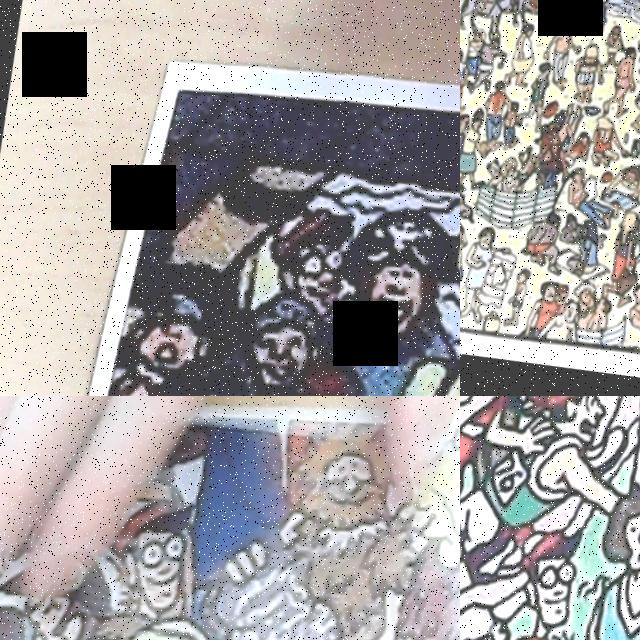waldo: (77, 480, 211, 640), (244, 195, 361, 343), (486, 519, 590, 640), (534, 125, 560, 154)
